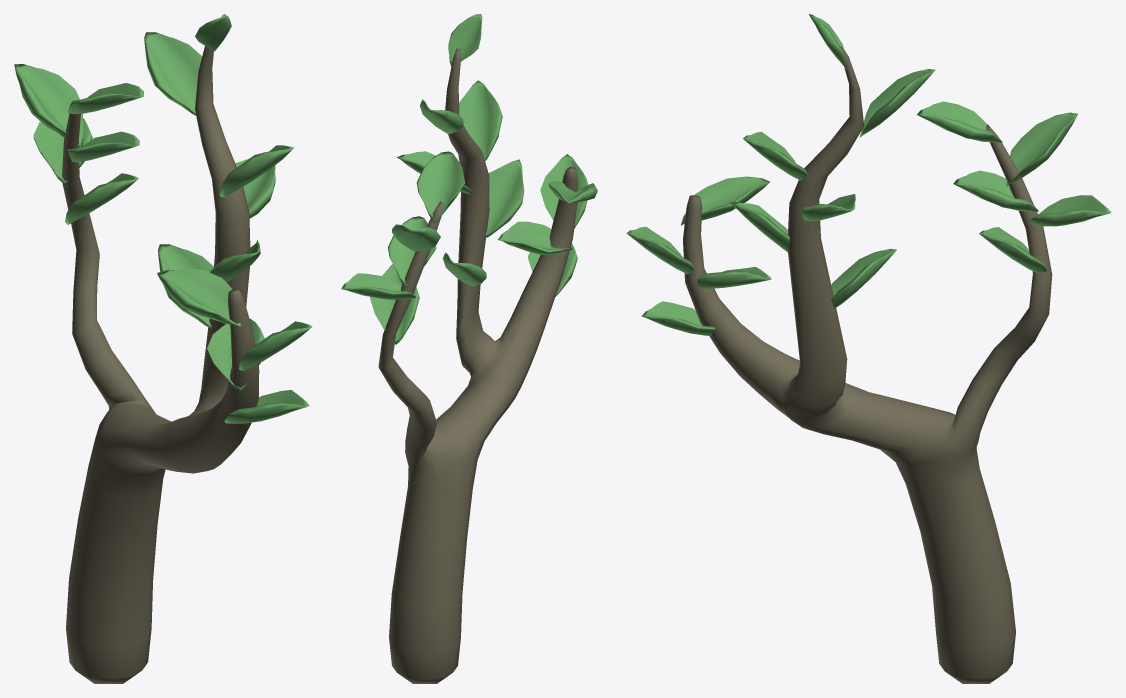
File: tree_3.fbx
3 renders of one model, left to right at view 1: azimuth 30°, elevation 25°; view 2: azimuth 150°, elevation 25°; view 3: azimuth 270°, elevation 25°, orthographic. The views are drawn at different scales.
Parts seen in each view (by area): view 1: branches:pCylinder2; view 2: branches:pCylinder2; view 3: branches:pCylinder2.
Part boxes in pixels (<box>): branches:pCylinder2: <box>14,14,312,683</box>; branches:pCylinder2: <box>341,14,597,683</box>; branches:pCylinder2: <box>626,14,1110,683</box>.
Size of the model in its own units: 3.88 by 15.96 by 10.47.
